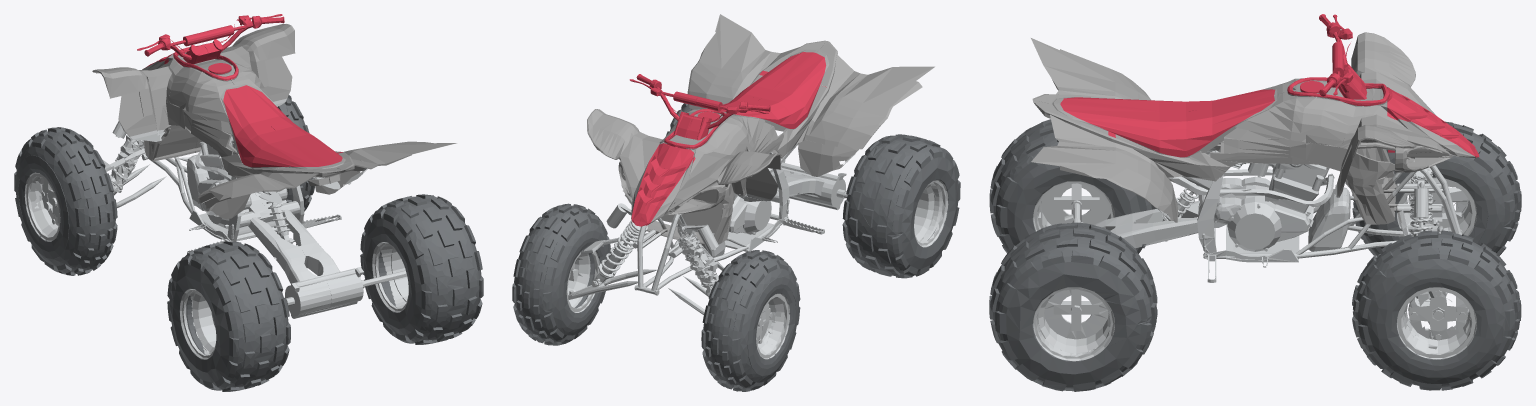
The model's file is yamaha-raptor.glb.
3 renders of one model, left to right at view 1: azimuth 30°, elevation 25°; view 2: azimuth 150°, elevation 25°; view 3: azimuth 270°, elevation 25°, orthographic. The views are drawn at different scales.
Visible parts, largest first — view 1: color_6710886, color_10988977, YamahaWheel_Front_L, YamahaWheel_Front_R, YamahaWheel_Rear_L, color_12193564, YamahaWheel_Rear_R; view 2: color_6710886, color_10988977, YamahaWheel_Front_L, color_12193564, YamahaWheel_Rear_L, YamahaWheel_Rear_R; view 3: color_10988977, color_6710886, YamahaWheel_Front_R, YamahaWheel_Rear_R, color_12193564, YamahaWheel_Front_L, YamahaWheel_Rear_L.
Part boxes in pixels (<box>): color_6710886: <box>92,24,456,219</box>; color_10988977: <box>24,98,408,359</box>; YamahaWheel_Front_L: <box>167,241,290,391</box>; YamahaWheel_Front_R: <box>360,194,483,344</box>; YamahaWheel_Rear_L: <box>14,127,117,275</box>; color_12193564: <box>137,14,343,167</box>; YamahaWheel_Rear_R: <box>277,95,314,211</box>; color_6710886: <box>587,14,934,244</box>; color_10988977: <box>566,143,948,359</box>; YamahaWheel_Front_L: <box>842,134,960,278</box>; color_12193564: <box>629,52,826,226</box>; YamahaWheel_Rear_L: <box>701,250,800,391</box>; YamahaWheel_Rear_R: <box>512,203,610,345</box>; color_10988977: <box>1033,147,1476,361</box>; color_6710886: <box>1031,32,1475,224</box>; YamahaWheel_Front_R: <box>989,222,1157,391</box>; YamahaWheel_Rear_R: <box>1352,230,1521,390</box>; color_12193564: <box>1060,14,1479,157</box>; YamahaWheel_Front_L: <box>989,119,1156,253</box>; YamahaWheel_Rear_L: <box>1352,121,1521,255</box>.
Bounding box in the file's own units: 50.54 × 46.93 × 79.85.
